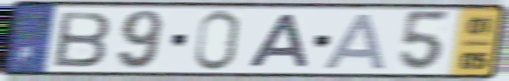0: (193, 8, 243, 73)
5: (395, 9, 454, 76)
9: (113, 8, 170, 72)
A: (321, 12, 391, 71), (244, 13, 312, 70)
B: (52, 10, 115, 69)
